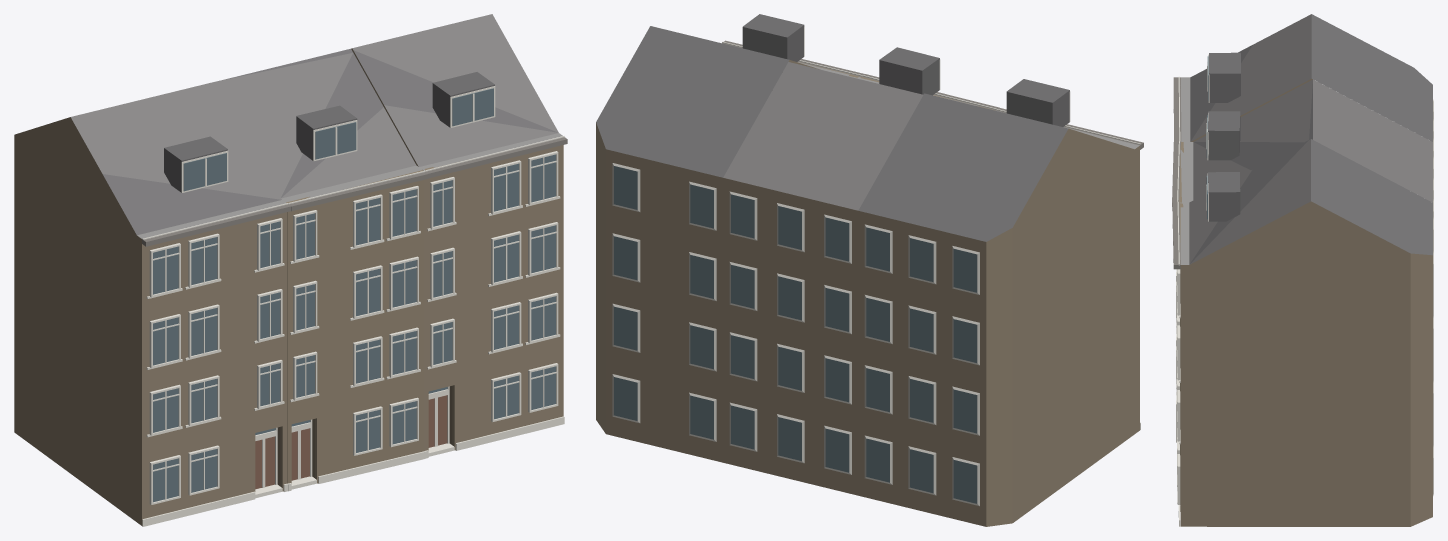
The model's file is chunk-face-haring-26-38-r1.glb.
3 renders of one model, left to right at view 1: azimuth 30°, elevation 25°; view 2: azimuth 150°, elevation 25°; view 3: azimuth 270°, elevation 25°, orthographic. The views are drawn at different scales.
Parts seen in each view (by area): view 1: face-haring-26-38-r1; view 2: face-haring-26-38-r1; view 3: face-haring-26-38-r1.
Part boxes in pixels (x1,y1,x2,y2): face-haring-26-38-r1: (14, 14, 567, 526); face-haring-26-38-r1: (596, 14, 1143, 526); face-haring-26-38-r1: (1172, 14, 1433, 526).
Bounding box in the file's own units: 18.55 × 15 × 10.94.
